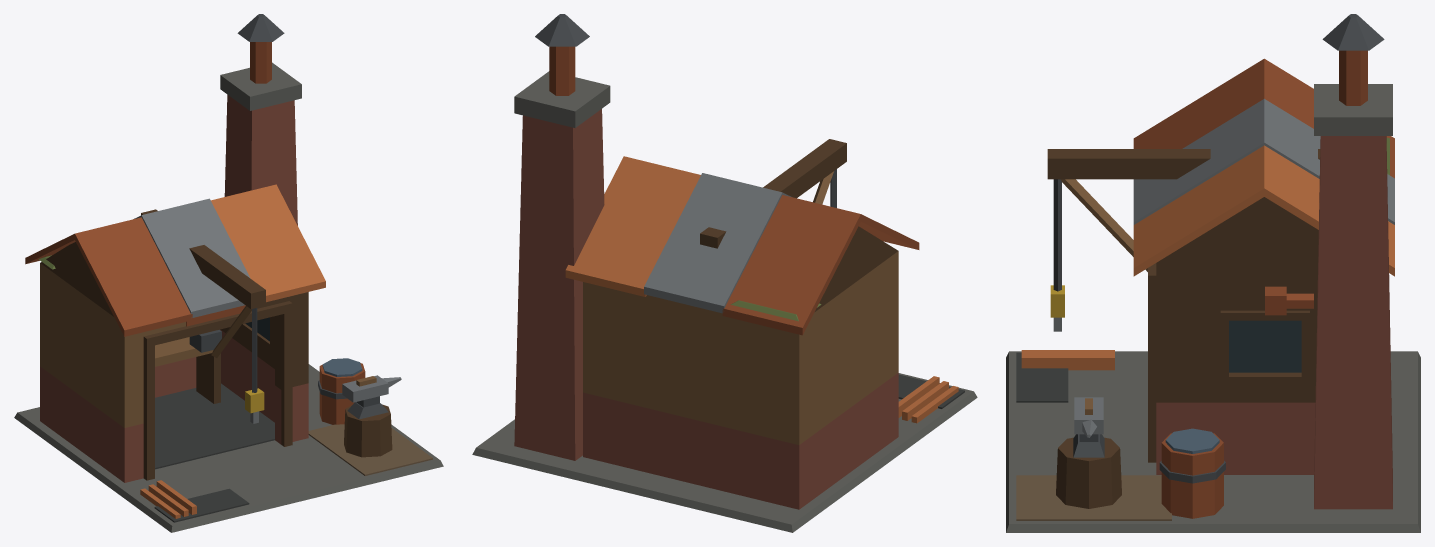
File: workshop_l1.glb
3 views of the same model, side by side, from view 1: azimuth 30°, elevation 25°; view 2: azimuth 150°, elevation 25°; view 3: azimuth 270°, elevation 25° (orthographic). The views are drawn at different scales.
Visible parts, largest first — view 1: workshop_structure, workshop_roof, workshop_props; view 2: workshop_structure, workshop_roof, workshop_props; view 3: workshop_structure, workshop_props, workshop_roof.
Boxes of the visible parts, box(x1,y1,x2,y2) form: workshop_structure: box(14, 62, 443, 532); workshop_roof: box(25, 184, 325, 336); workshop_props: box(140, 14, 401, 518); workshop_structure: box(472, 71, 977, 532); workshop_roof: box(565, 156, 919, 335); workshop_props: box(535, 14, 958, 423); workshop_structure: box(1006, 84, 1420, 532); workshop_props: box(1021, 14, 1384, 518); workshop_roof: box(1133, 58, 1394, 276).
Bounding box in the file's own units: 4 × 5.15 × 4.
